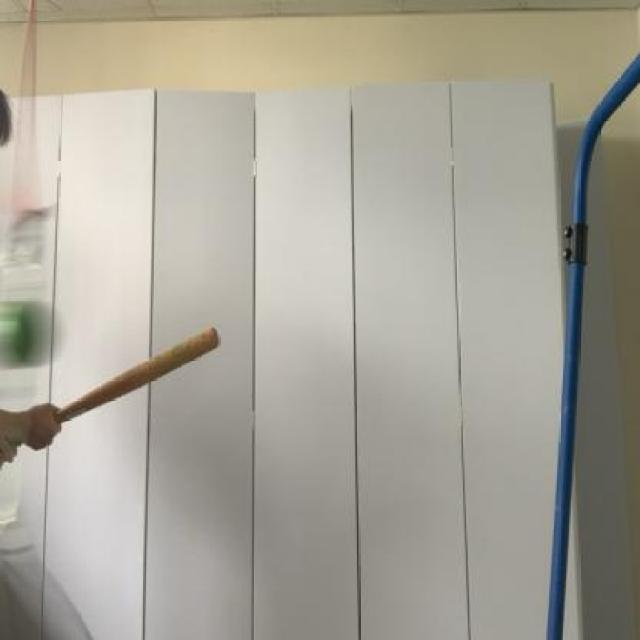baseball: (0, 297, 74, 380)
